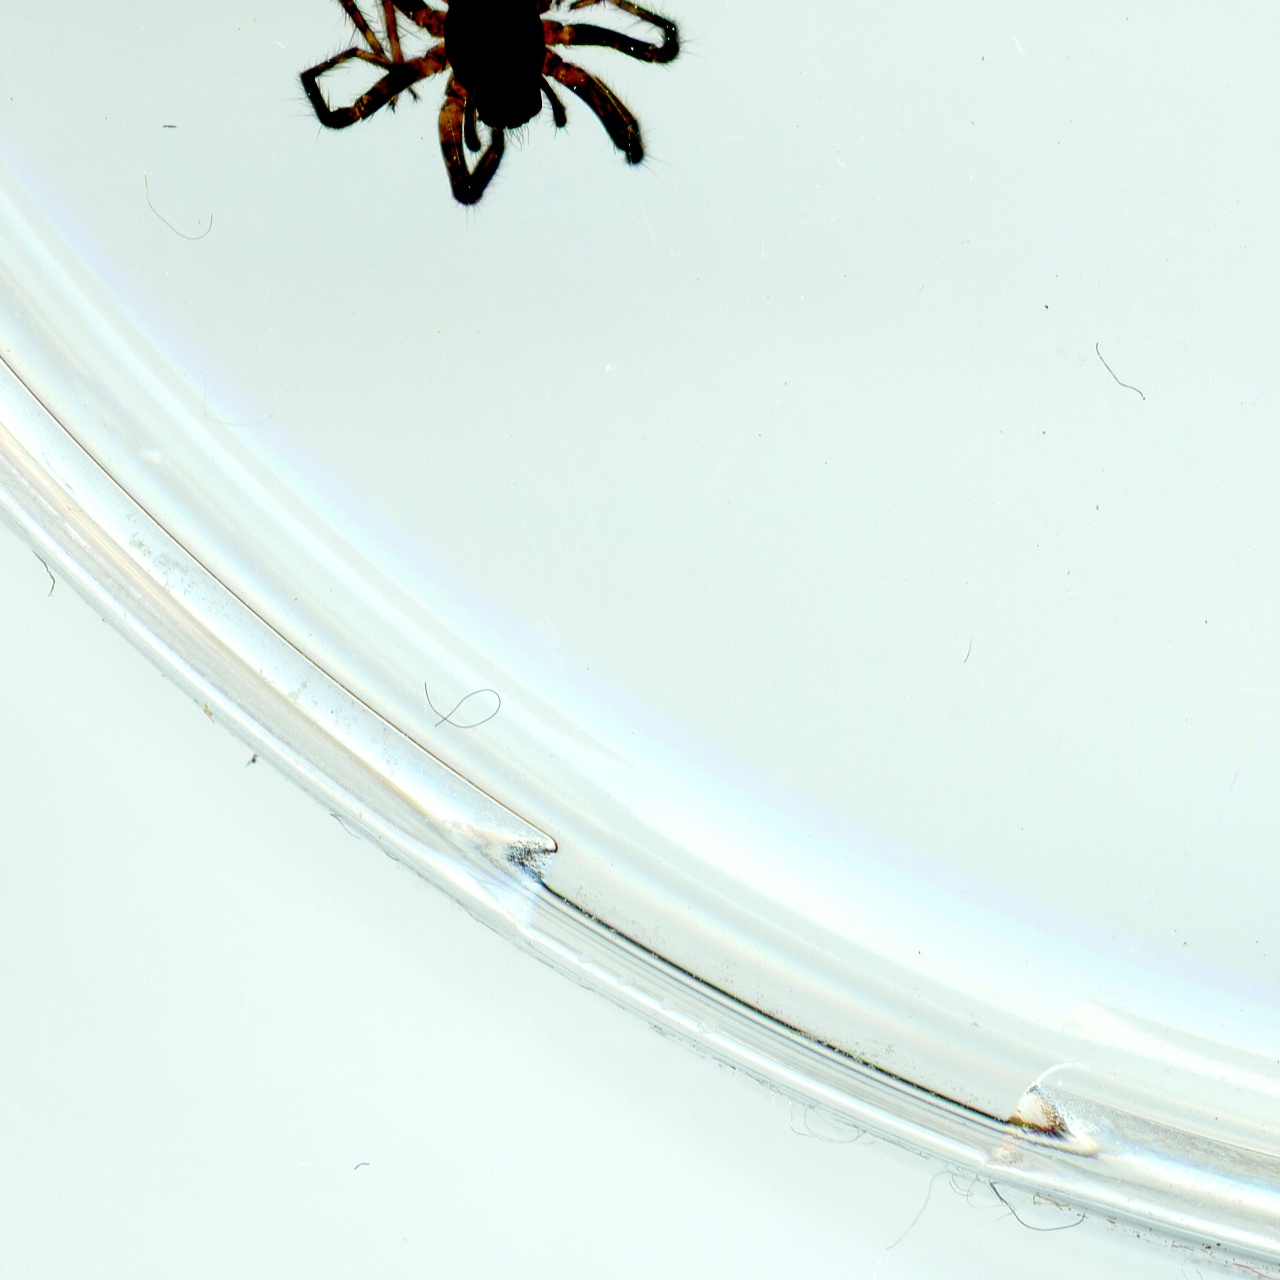arthropod: (297, 0, 691, 203)
